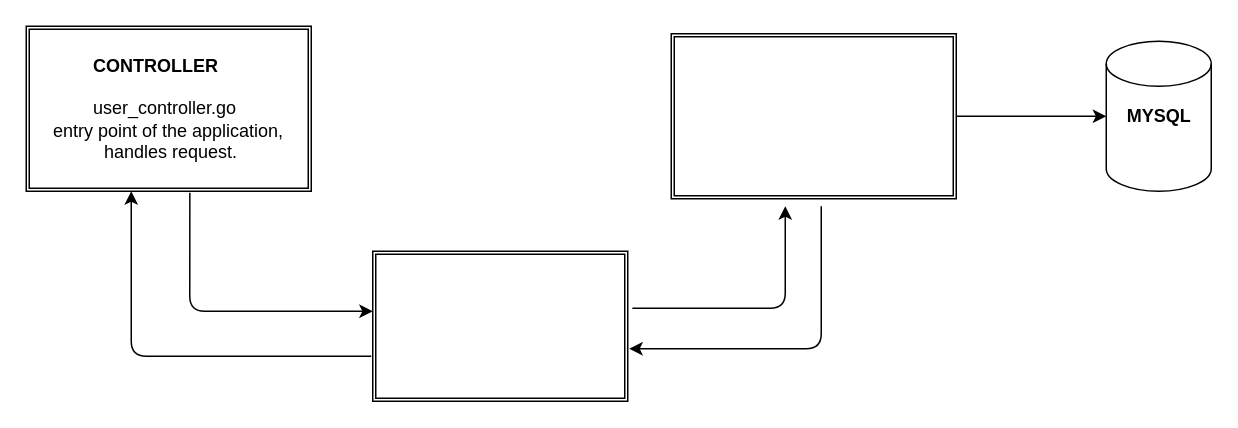
Some shapes in this 1238 by 428 pixel diagram are drawn without their labels. Here are the shapes that lost their labels. From the top down, the centre of each, then its label:
At point (813, 115): "MODEL users".
At point (499, 325): "SERVICE user_Service.go bussines logic".
